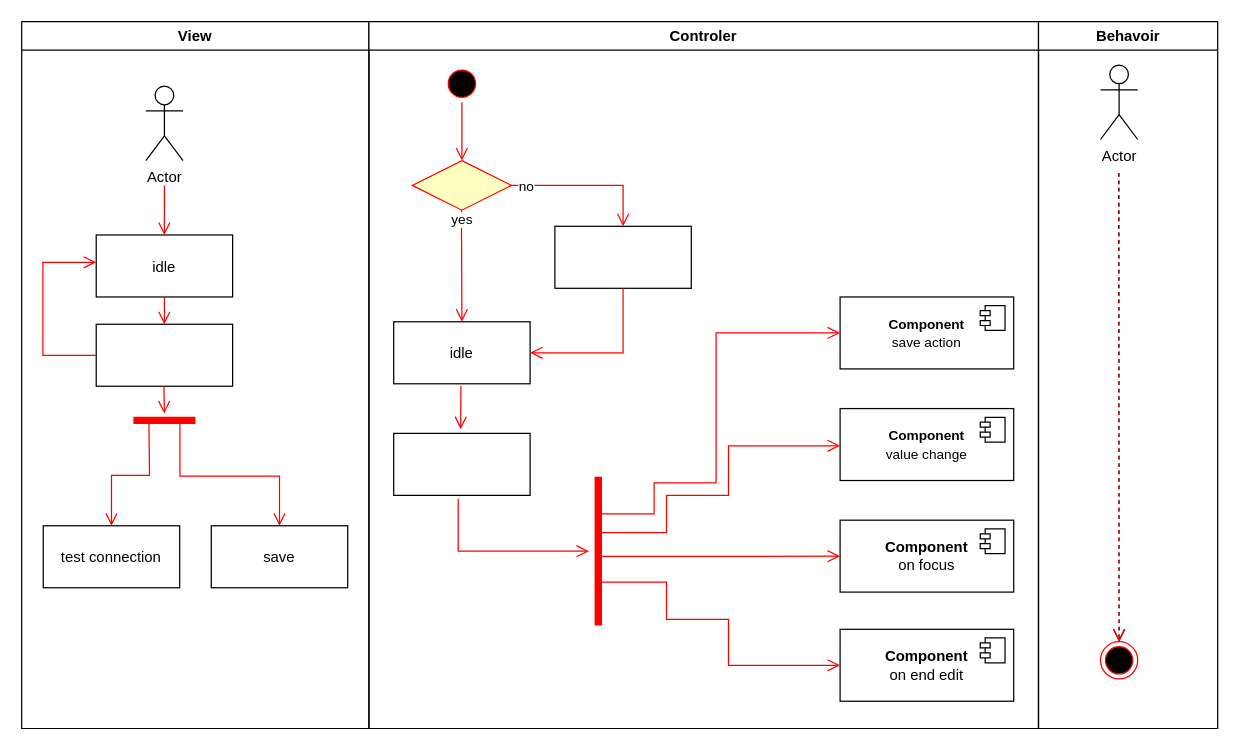
Some shapes in this 1240 by 750 pixel diagram are drawn without their labels. The centre of each missing label's shape, as x and y in pixels:
"fill input with saved IP" belongs at (x=622, y=256).
"first run" belongs at (x=461, y=184).
"on click" belongs at (x=164, y=354).
"user action" belongs at (x=461, y=463).
